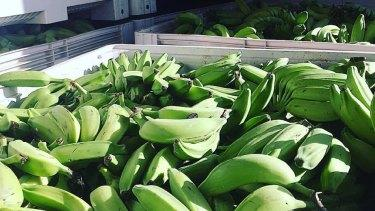Banana Unripe: (2, 64, 375, 211)
